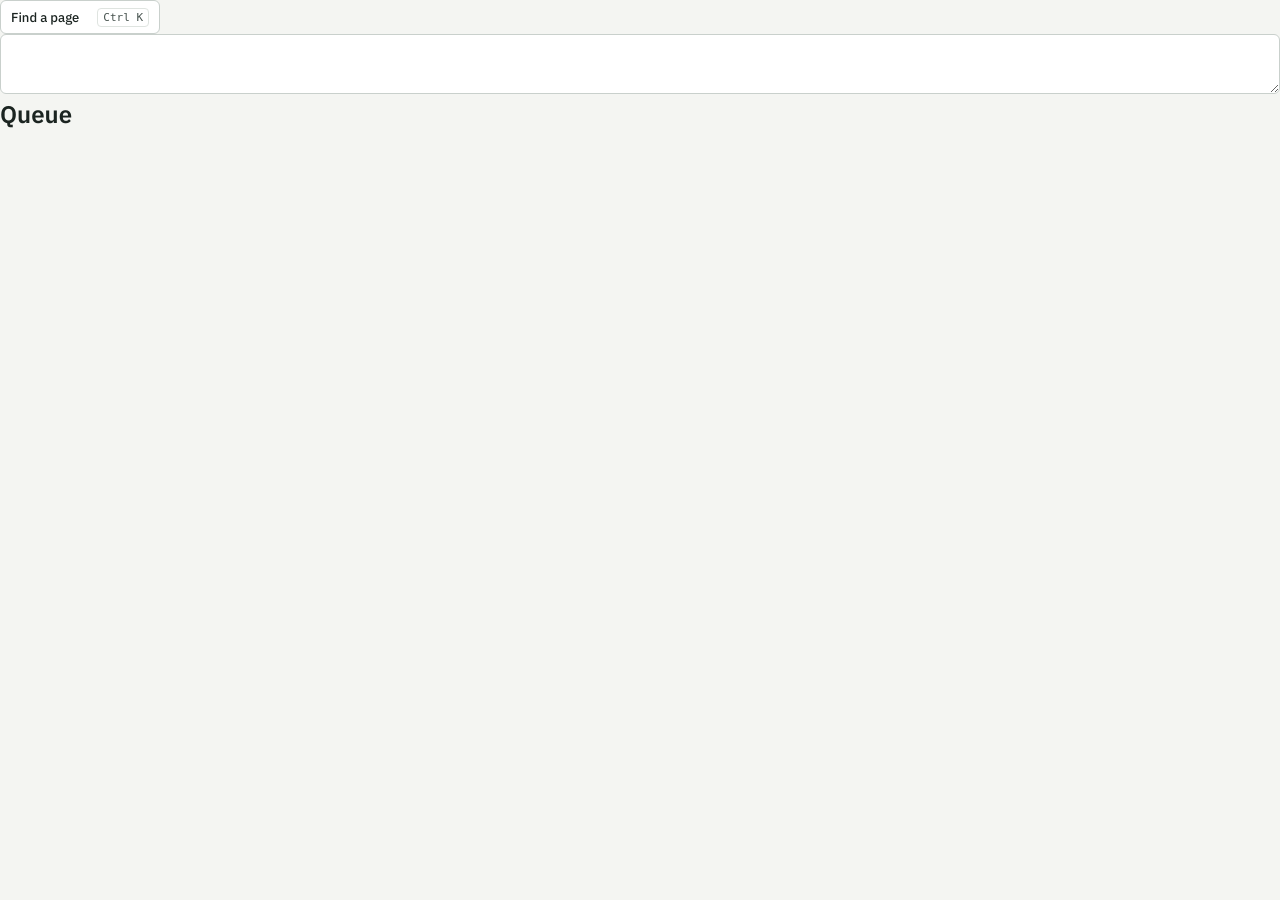
Test case: any text offers a ticket search
This screenshot has width=1280, height=900.
Type keys "{Control>}k{/Control}"
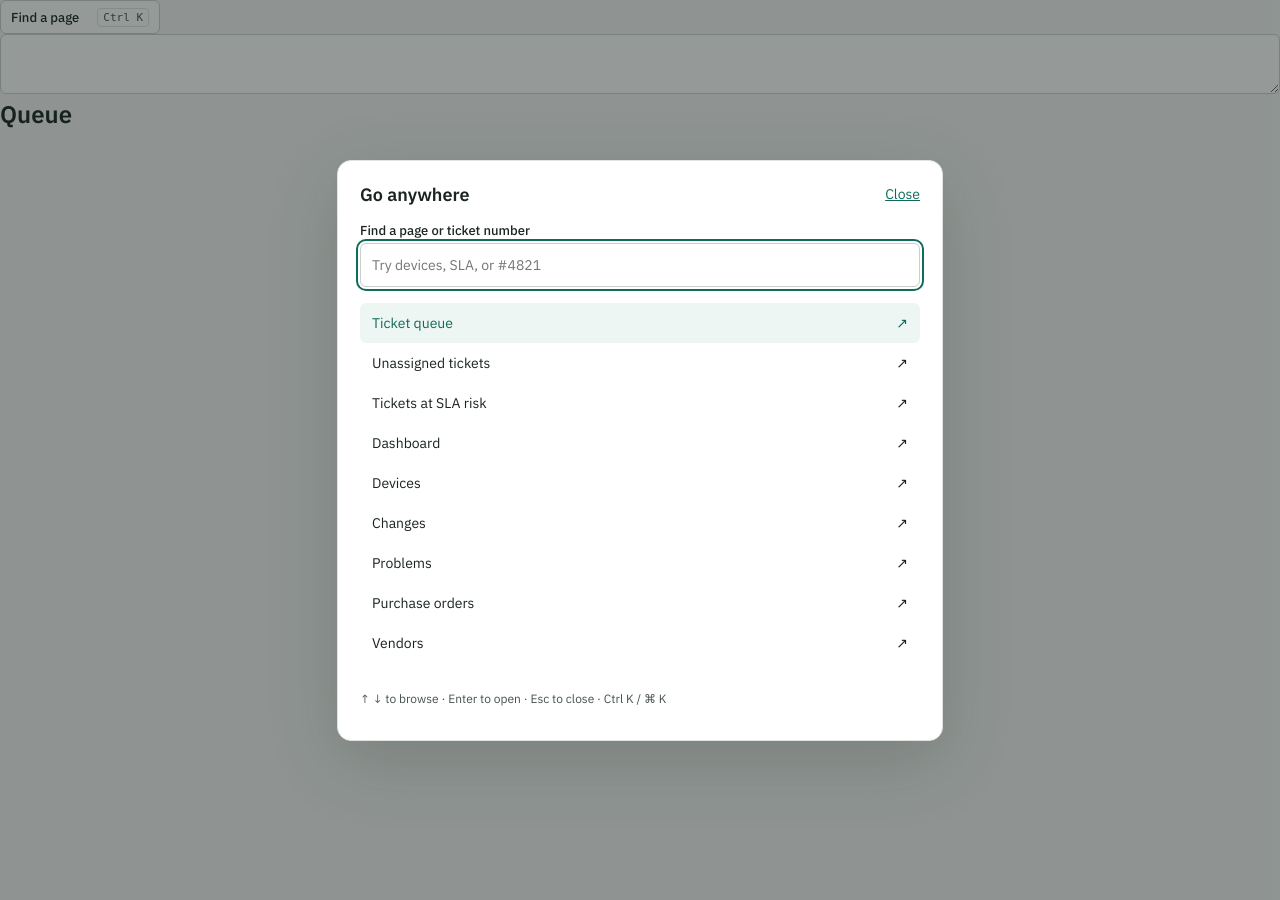
Type "toner cartridge" into the dropdown at (640, 264), box 360,242 -> 920,286
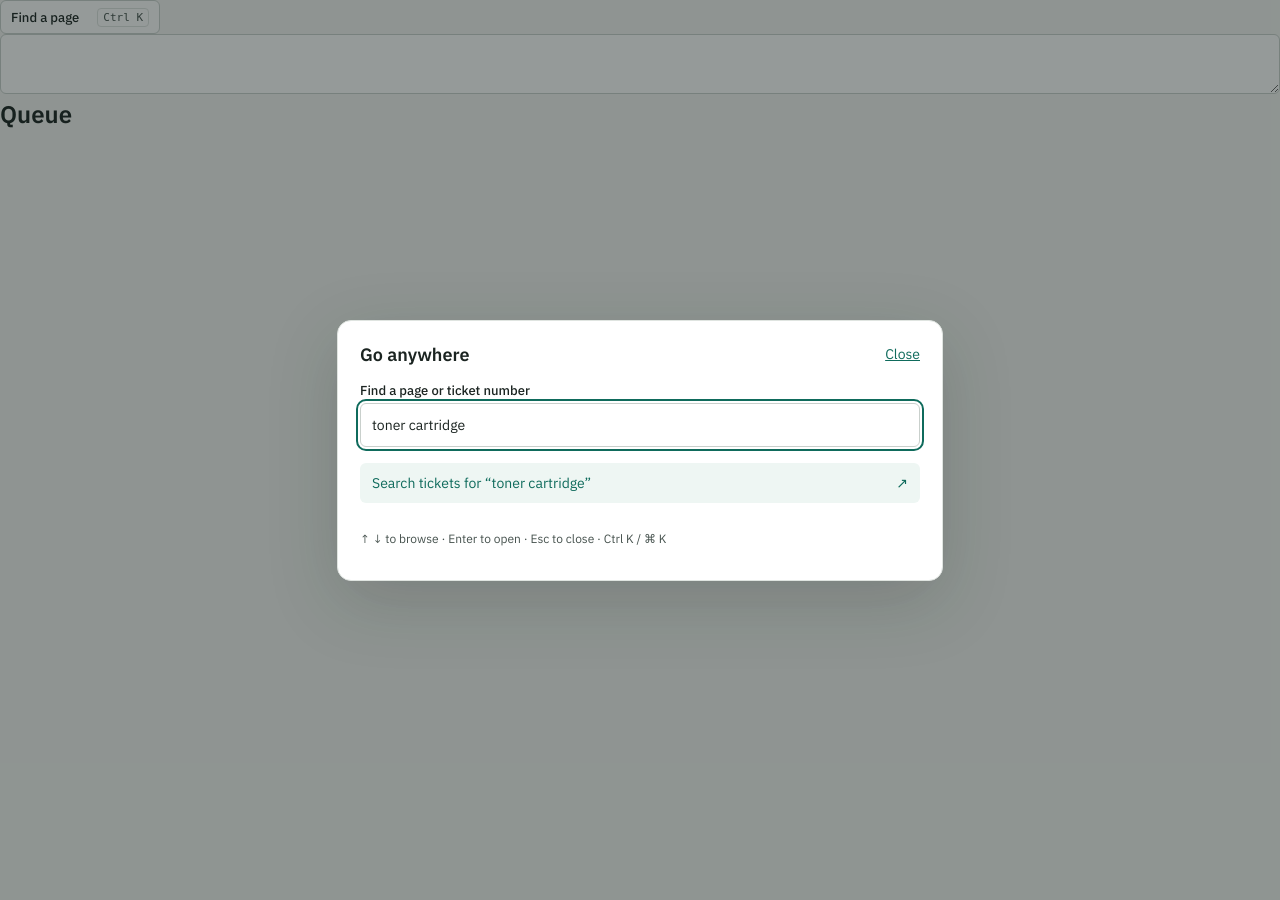
Now the option "Search tickets for “toner cartridge” ↗" is shown, box 360,462 -> 920,502
